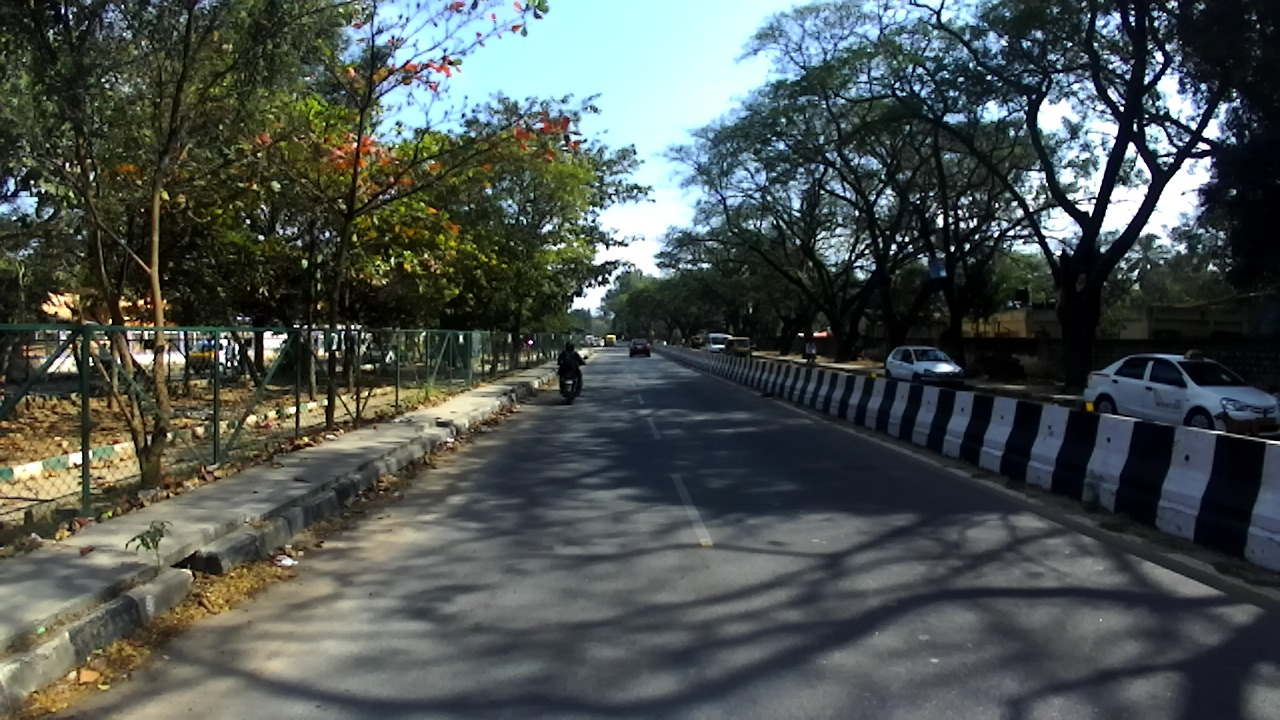autorickshaw: (725, 337, 752, 358), (689, 335, 703, 350), (605, 334, 617, 346)
bicycle: (805, 353, 818, 366)
car: (1082, 352, 1280, 445), (884, 345, 964, 390), (705, 333, 734, 354), (628, 339, 651, 358), (590, 336, 605, 347), (584, 333, 595, 346)
motorcycle: (558, 353, 590, 404)
rider: (556, 341, 585, 396), (804, 339, 817, 361), (681, 336, 686, 345)
